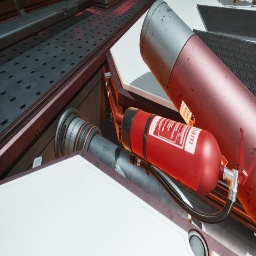FireExtinguisher ]: (121, 107, 256, 224)
NitrogenTank ,: (139, 0, 256, 223)
